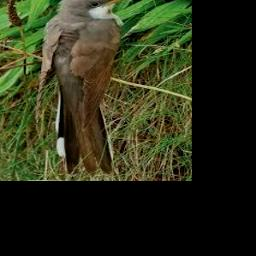Cuckoo: (40, 0, 132, 171)
